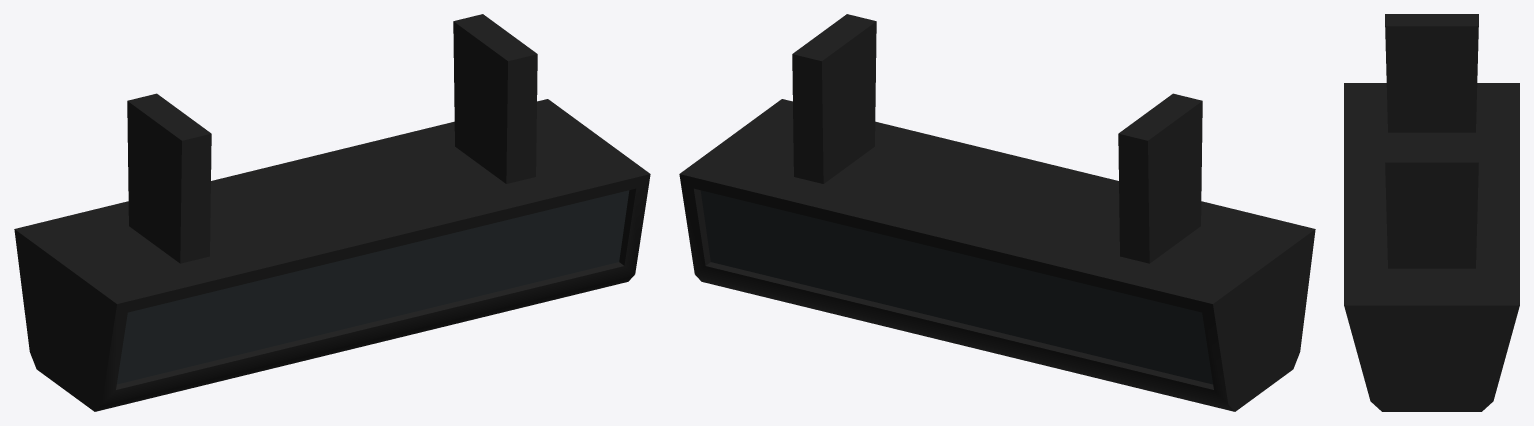
The model's file is SW_PROP_NextTrainSign.fbx.
3 renders of one model, left to right at view 1: azimuth 30°, elevation 25°; view 2: azimuth 150°, elevation 25°; view 3: azimuth 270°, elevation 25°, orthographic. The views are drawn at different scales.
Parts seen in each view (by area): view 1: SW_PROP_NextTrainSign; view 2: SW_PROP_NextTrainSign; view 3: SW_PROP_NextTrainSign.
Part boxes in pixels (x1,y1,x2,y2): SW_PROP_NextTrainSign: (14, 14, 650, 411); SW_PROP_NextTrainSign: (679, 14, 1315, 411); SW_PROP_NextTrainSign: (1344, 14, 1519, 411).
Bounding box in the file's own units: 1.8 × 0.8 × 0.6.
